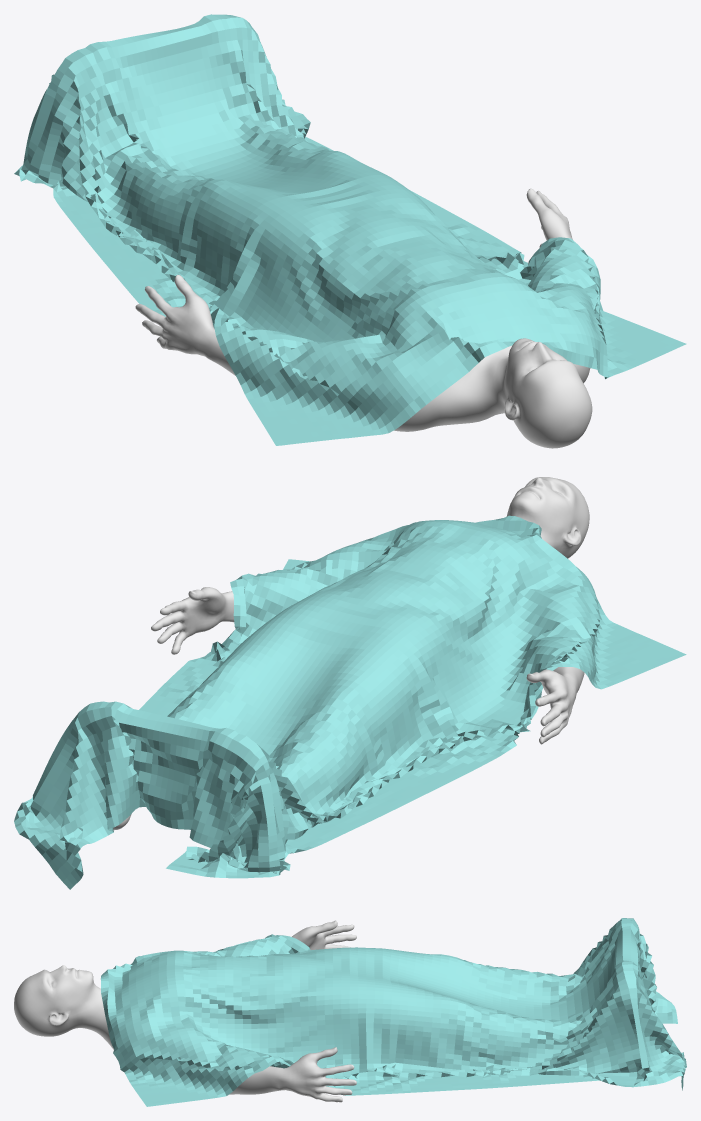
The model's file is Patient.fbx.
3 renders of one model, top to bottom at view 1: azimuth 30°, elevation 25°; view 2: azimuth 150°, elevation 25°; view 3: azimuth 270°, elevation 25°, orthographic. The views are drawn at different scales.
Parts seen in each view (by area): view 1: Decke, Patient; view 2: Decke, Patient; view 3: Decke, Patient.
Part boxes in pixels (x1,y1,x2,y2): Decke: (14, 14, 686, 445); Patient: (135, 188, 592, 448); Decke: (14, 515, 686, 889); Patient: (113, 477, 589, 830); Decke: (100, 918, 686, 1106); Patient: (14, 920, 356, 1102).
Size of the model in its own units: 1.66 by 0.6442 by 3.17.
